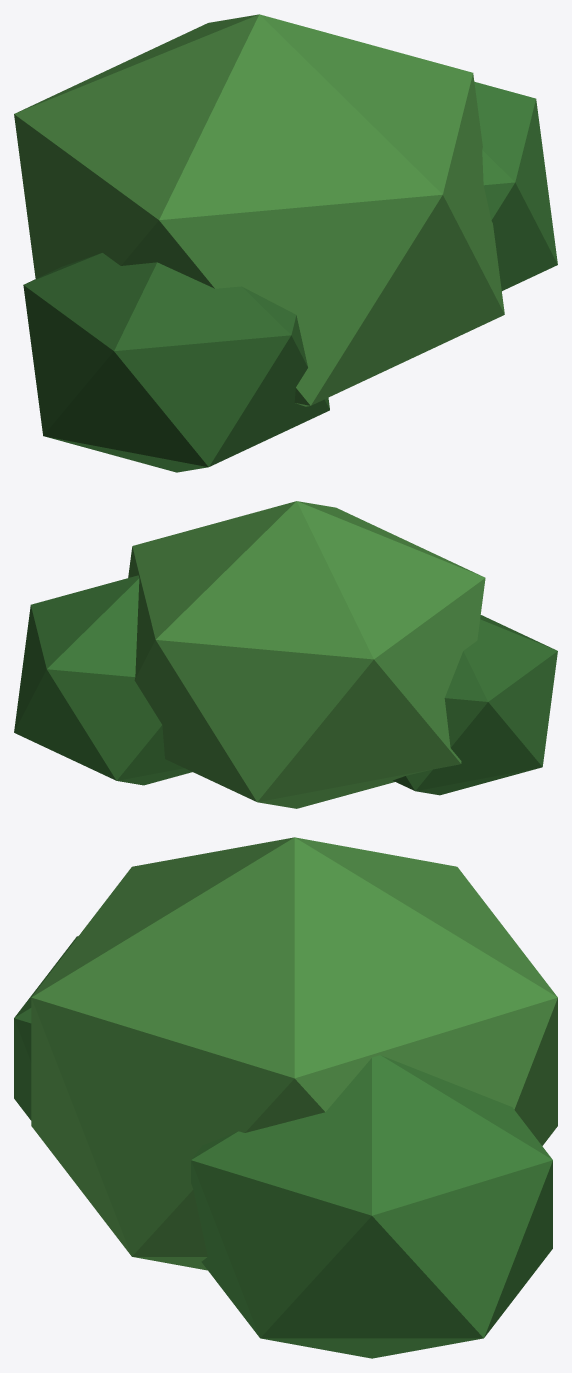
File: bush.glb
The picture shows the model from 3 angles, top to bottom: view 1: azimuth 30°, elevation 25°; view 2: azimuth 150°, elevation 25°; view 3: azimuth 270°, elevation 25°; orthographic projection. The views are drawn at different scales.
Visible parts, largest first — view 1: bush_0, bush_2, bush_1; view 2: bush_0, bush_1, bush_2; view 3: bush_0, bush_1, bush_2.
Boxes of the visible parts, left/top/right/bottom form: bush_0: left=14, top=14, right=504, bottom=406; bush_2: left=23, top=253, right=329, bottom=472; bush_1: left=474, top=81, right=557, bottom=290; bush_0: left=128, top=501, right=485, bottom=808; bush_1: left=14, top=575, right=192, bottom=785; bush_2: left=393, top=615, right=557, bottom=795; bush_0: left=31, top=837, right=557, bottom=1270; bush_1: left=191, top=1055, right=552, bottom=1358; bush_2: left=14, top=936, right=78, bottom=1120.
Size of the model in its own units: 1.94 by 1.28 by 1.41.
